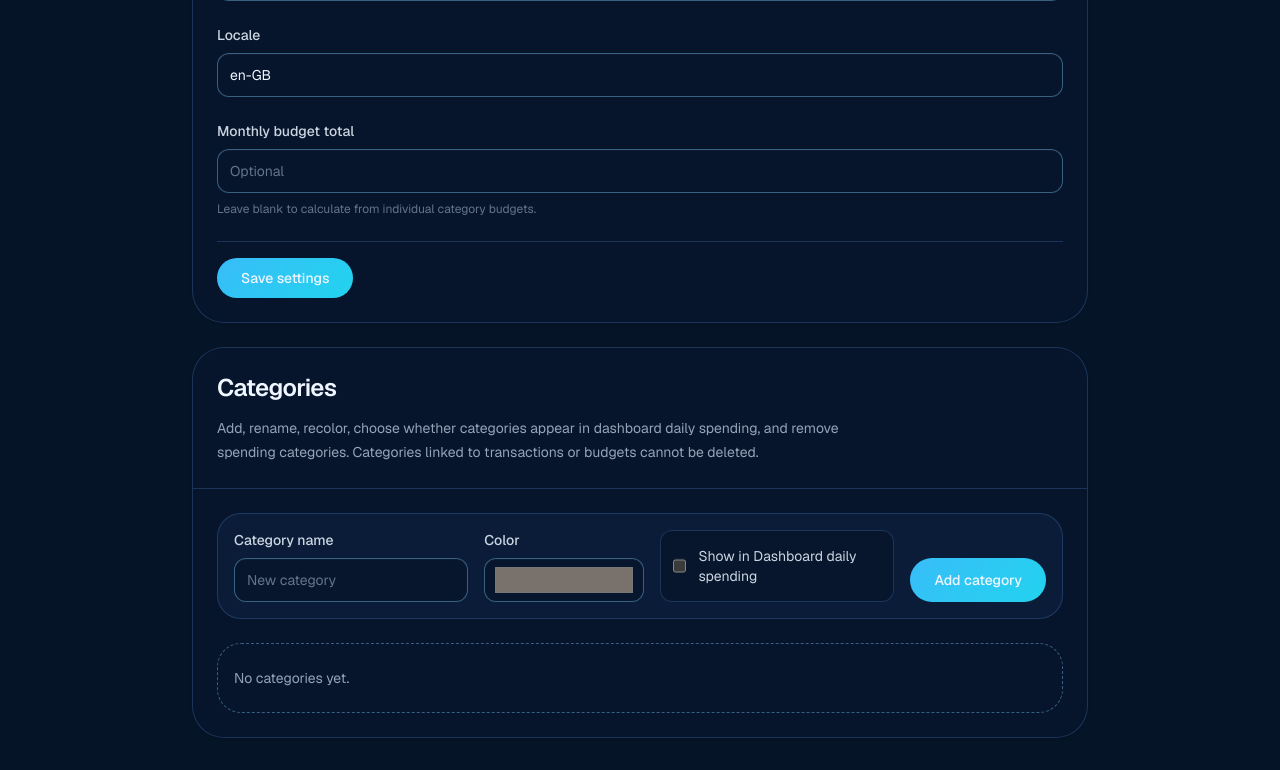
it: [Component] settings page › should include the dashboard daily spending flag when creating a selected category
(page scrolled)
Type "Snacks" into the field with placeholder "New category".
click(351, 580); type("Snacks")  # box top-left (234, 558), bottom-right (468, 602)
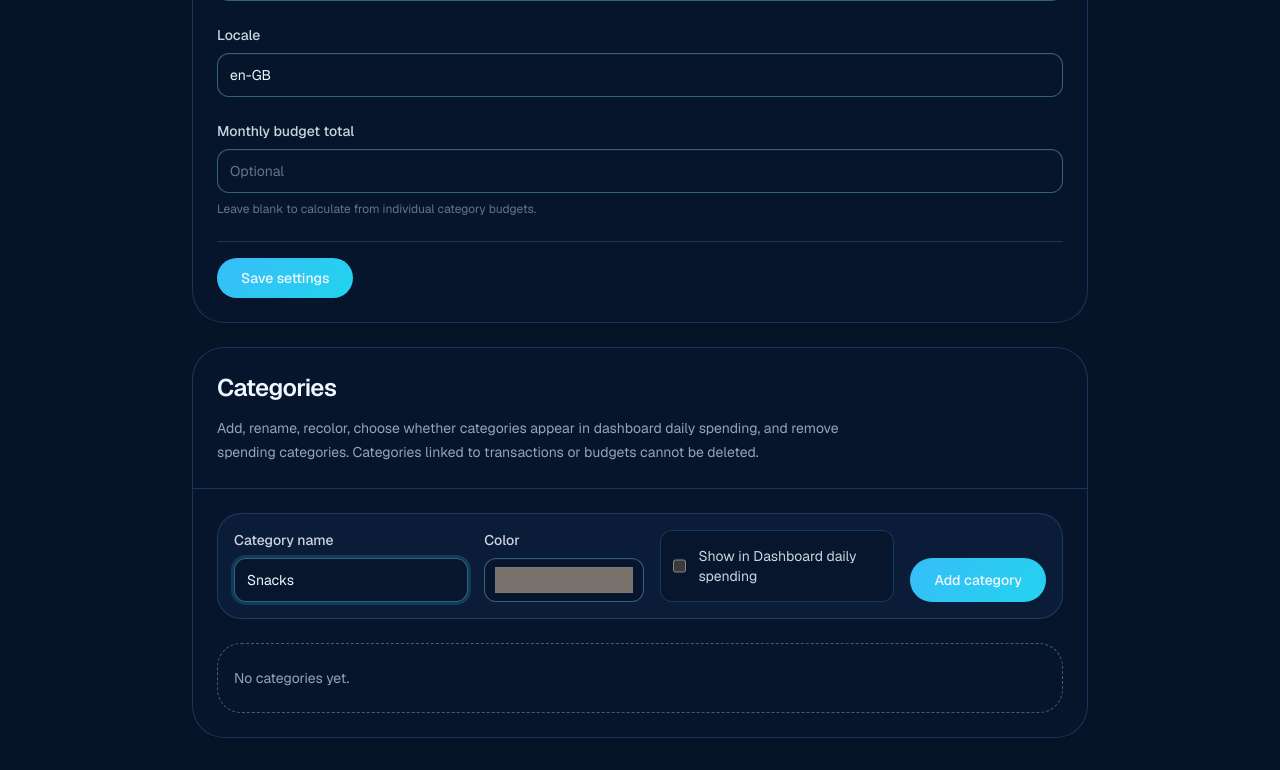
Click the checkbox labelled "Show in Dashboard daily spending".
click(680, 566)  # box top-left (673, 558), bottom-right (686, 574)
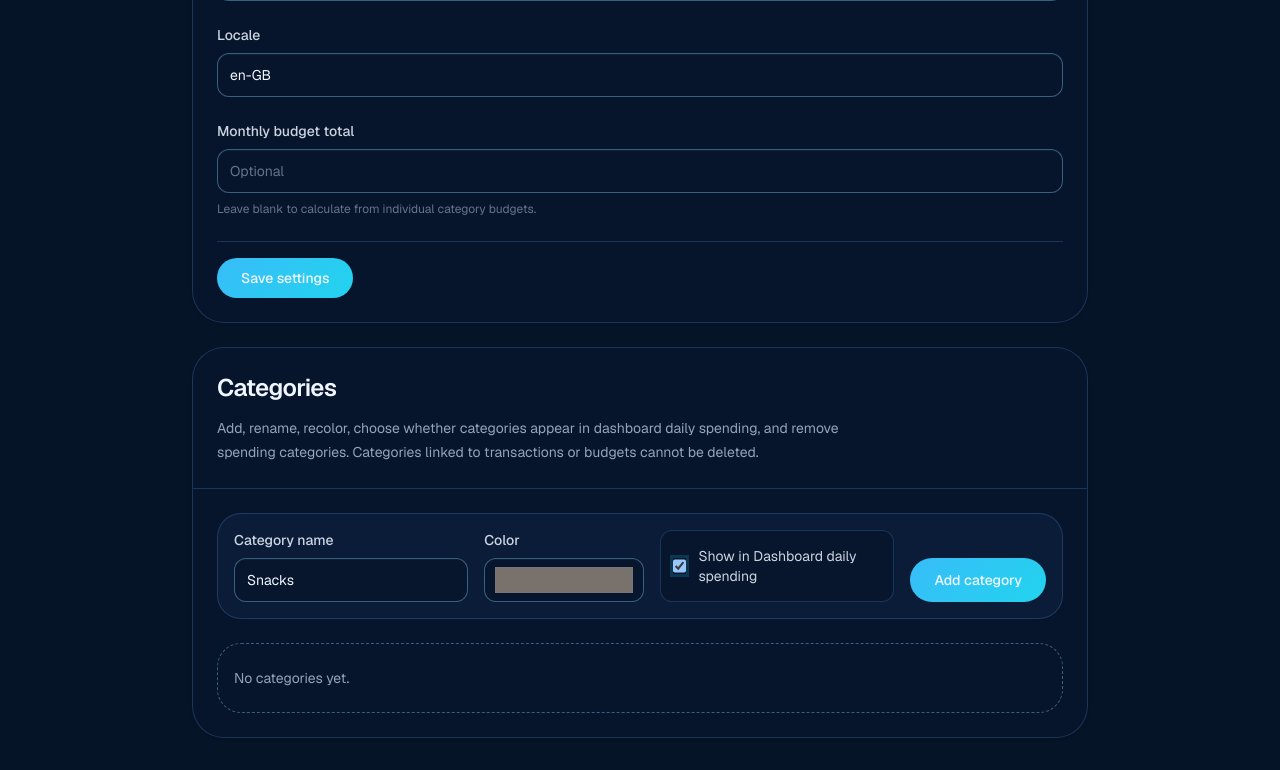
Click the button "Add category".
click(978, 580)  # box top-left (910, 558), bottom-right (1046, 602)
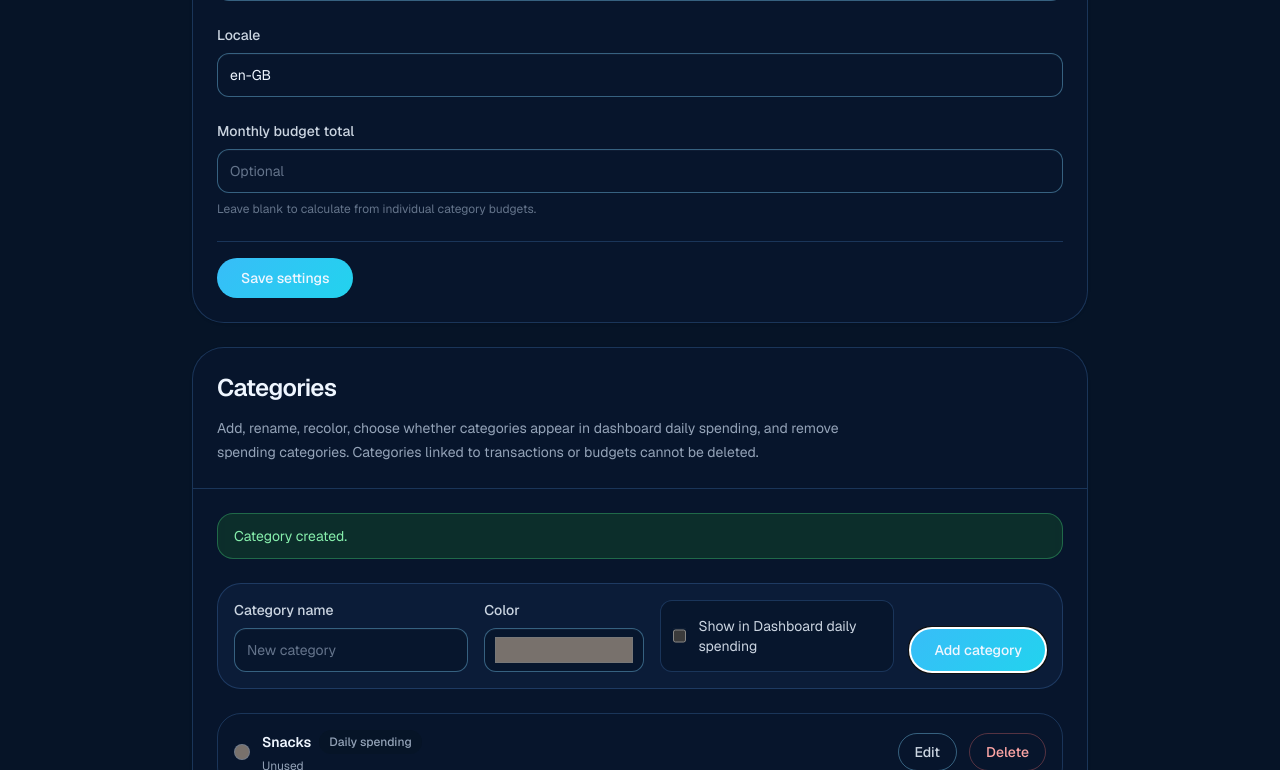
expect the text "Category created." is shown: met, box top-left (217, 513), bottom-right (1063, 559)
expect the text "Snacks" is shown: met, box top-left (262, 732), bottom-right (311, 752)
expect the text "Daily spending" is shown: met, box top-left (319, 730), bottom-right (422, 754)
